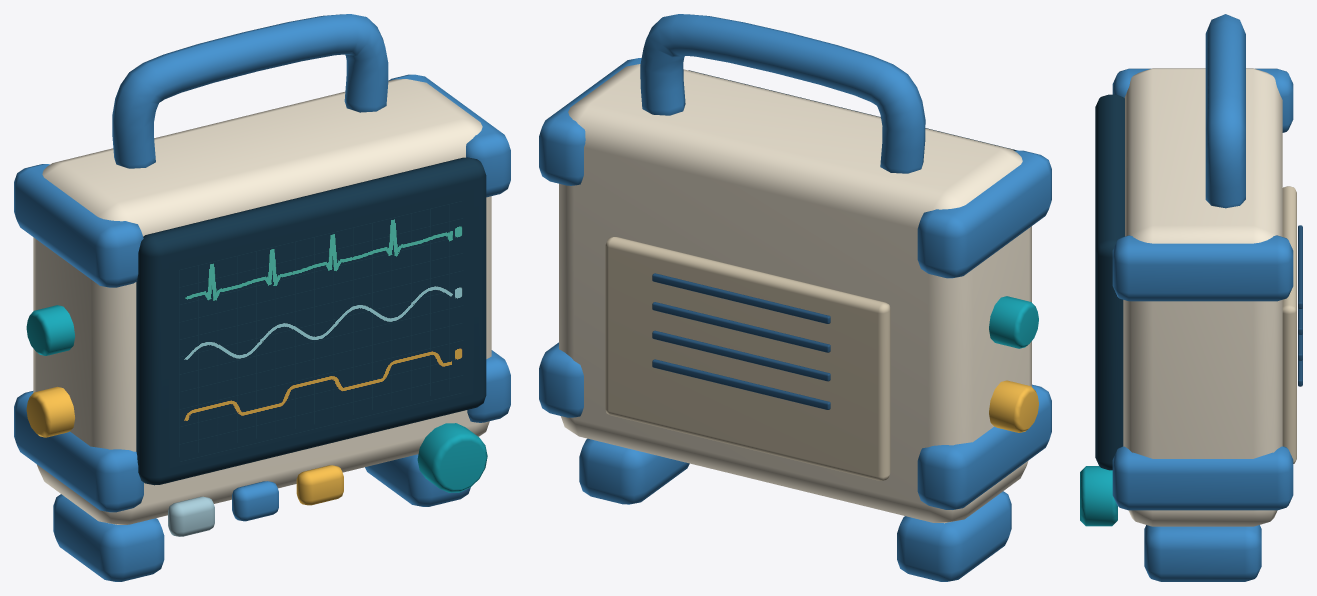
Rendered from medical-02.glb.
The picture shows the model from 3 angles, left to right: view 1: azimuth 30°, elevation 25°; view 2: azimuth 150°, elevation 25°; view 3: azimuth 270°, elevation 25°; orthographic projection. The views are drawn at different scales.
Parts seen in each view (by area): view 1: Fixed_Assembly_Plastic, Abstract_patient_traces_Plastic, Main_control_knob_Plastic; view 2: Fixed_Assembly_Plastic; view 3: Fixed_Assembly_Plastic, Main_control_knob_Plastic.
Boxes of the visible parts, x1,y1,x2,y2 form: Fixed_Assembly_Plastic: (14, 14, 510, 581); Abstract_patient_traces_Plastic: (169, 189, 473, 468); Main_control_knob_Plastic: (417, 423, 487, 492); Fixed_Assembly_Plastic: (539, 14, 1051, 581); Fixed_Assembly_Plastic: (1095, 14, 1302, 581); Main_control_knob_Plastic: (1080, 466, 1117, 526).
Bounding box in the file's own units: 0.5555 × 0.5914 × 0.2655.
1 material, 1 textured.
